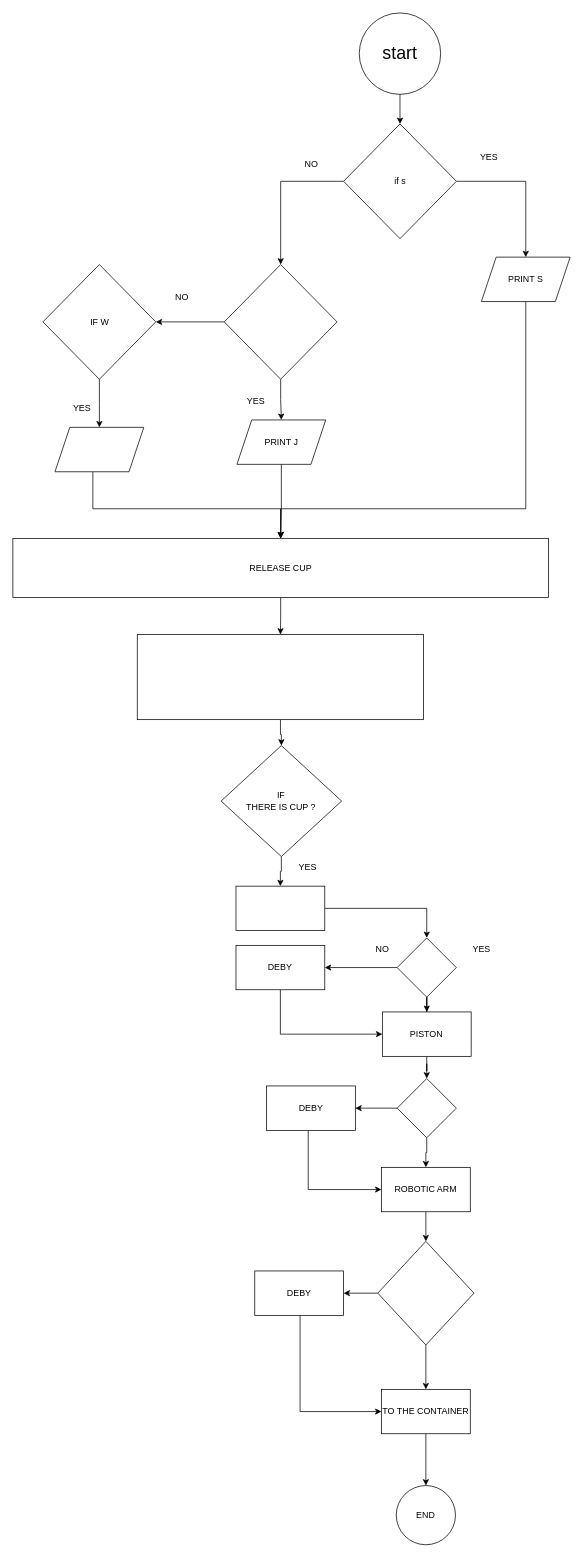
Image size: 584x1558. Some labels were removed from this diagram. Each missing label, with the box of its shape:
DETECT THE CUP: (377, 1241, 474, 1345)
DONE?: (396, 1078, 456, 1138)
FILLED?: (396, 937, 456, 997)
FILLING MACHINE: (235, 885, 325, 931)
IF J: (223, 264, 337, 379)
PRINT W: (54, 427, 144, 472)
START BELT: (137, 634, 424, 720)
